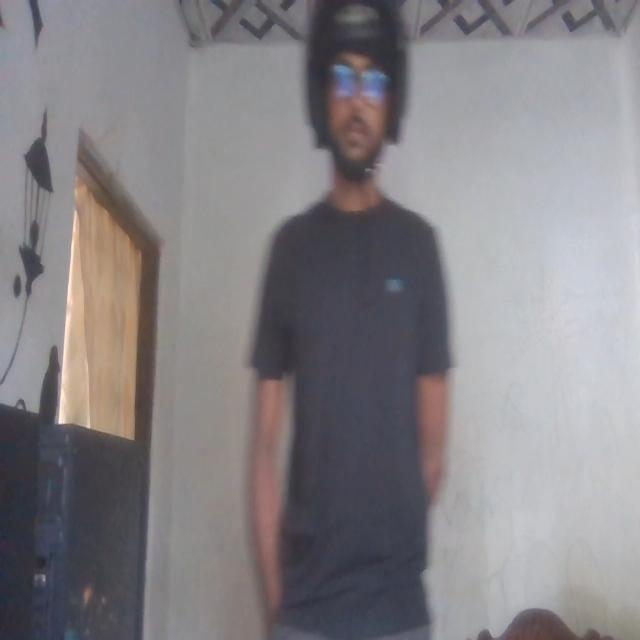Helmet_Wearer: (305, 0, 402, 191)
Person: (252, 1, 462, 640)
